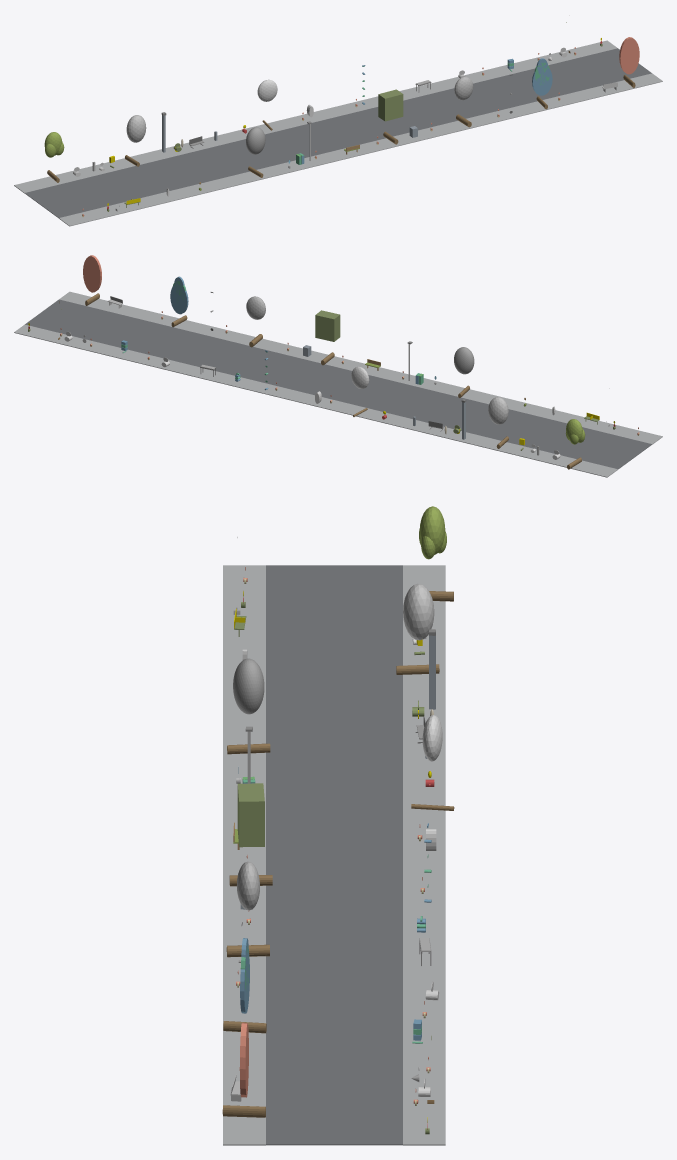
3 renders of one model, top to bottom at view 1: azimuth 30°, elevation 25°; view 2: azimuth 150°, elevation 25°; view 3: azimuth 270°, elevation 25°, orthographic. The views are drawn at different scales.
Visible parts, largest first — view 1: road_slab, sidewalk_left, sidewalk_right, inst_0022, inst_0025, inst_0024, inst_0019, inst_0020, inst_0018, inst_0023, inst_0021; view 2: road_slab, sidewalk_right, sidewalk_left, inst_0022, inst_0025, inst_0024, inst_0019, inst_0020, inst_0018, inst_0023, inst_0021; view 3: road_slab, sidewalk_right, sidewalk_left, inst_0022, inst_0020, inst_0019, inst_0018, inst_0023, inst_0025, inst_0024, inst_0021.
Part boxes in pixels (x1=…): road_slab: x1=24, y1=48, x2=651, y2=218; sidewalk_left: x1=59, y1=73, x2=662, y2=226; sidewalk_right: x1=14, y1=40, x2=617, y2=193; inst_0022: x1=378, y1=89, x2=403, y2=144; inst_0025: x1=619, y1=37, x2=639, y2=87; inst_0024: x1=532, y1=58, x2=552, y2=109; inst_0019: x1=125, y1=115, x2=146, y2=166; inst_0020: x1=246, y1=127, x2=265, y2=177; inst_0018: x1=44, y1=132, x2=64, y2=182; inst_0023: x1=454, y1=76, x2=473, y2=127; inst_0021: x1=257, y1=79, x2=277, y2=130; road_slab: x1=25, y1=299, x2=652, y2=469; sidewalk_right: x1=14, y1=324, x2=617, y2=477; sidewalk_left: x1=59, y1=291, x2=662, y2=444; inst_0022: x1=315, y1=310, x2=340, y2=365; inst_0025: x1=83, y1=255, x2=101, y2=305; inst_0024: x1=170, y1=276, x2=188, y2=327; inst_0019: x1=488, y1=397, x2=508, y2=448; inst_0020: x1=454, y1=347, x2=474, y2=397; inst_0018: x1=565, y1=419, x2=585, y2=469; inst_0023: x1=246, y1=296, x2=265, y2=347; inst_0021: x1=351, y1=366, x2=369, y2=416; road_slab: x1=266, y1=565, x2=402, y2=1145; sidewalk_right: x1=403, y1=565, x2=445, y2=1145; sidewalk_left: x1=223, y1=565, x2=265, y2=1145; inst_0022: x1=229, y1=783, x2=272, y2=886; inst_0020: x1=227, y1=658, x2=270, y2=754; inst_0019: x1=396, y1=583, x2=439, y2=674; inst_0018: x1=419, y1=506, x2=453, y2=601; inst_0023: x1=226, y1=861, x2=269, y2=957; inst_0025: x1=222, y1=1022, x2=265, y2=1117; inst_0024: x1=223, y1=938, x2=266, y2=1033; inst_0021: x1=411, y1=715, x2=454, y2=810.
Size of the model in its own units: 80 by 6.08 by 13.51.
